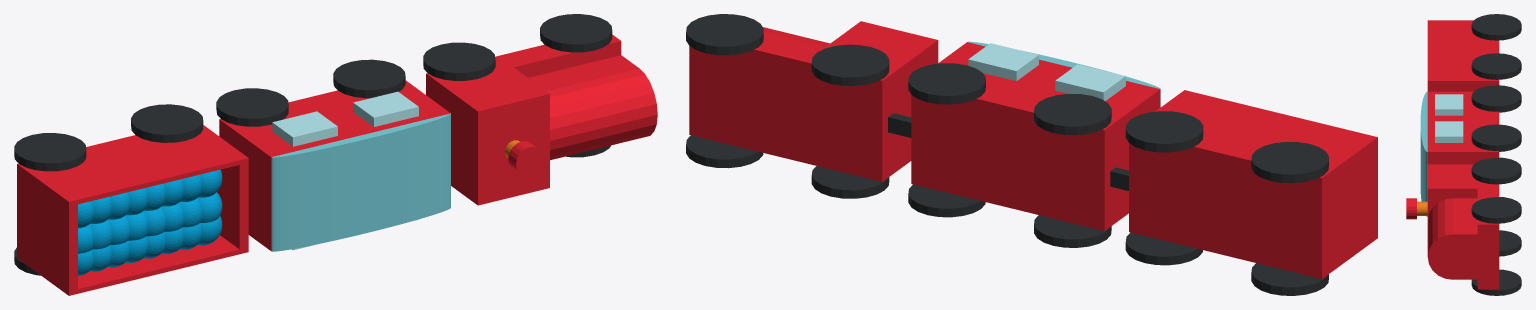
File: tinker.obj
3 views of the same model, side by side, from view 1: azimuth 30°, elevation 25°; view 2: azimuth 150°, elevation 25°; view 3: azimuth 270°, elevation 25° (orthographic). The views are drawn at different scales.
Visible parts, largest first — view 1: group_0_15277357, group_0_7720667, group_0_2829873, group_0_40919, group_0_11593967; view 2: group_0_15277357, group_0_2829873, group_0_11593967, group_0_7720667; view 3: group_0_15277357, group_0_2829873, group_0_11593967, group_0_7720667, group_0_16089887.
Part boxes in pixels (box(x1,y1,x2,y2)): group_0_15277357: box(17, 34, 657, 295); group_0_7720667: box(271, 113, 450, 251); group_0_2829873: box(14, 14, 612, 275); group_0_40919: box(78, 169, 222, 275); group_0_11593967: box(272, 91, 418, 250); group_0_15277357: box(689, 21, 1377, 278); group_0_2829873: box(686, 14, 1328, 295); group_0_11593967: box(968, 43, 1125, 100); group_0_7720667: box(968, 41, 1160, 107); group_0_15277357: box(1406, 20, 1499, 289); group_0_2829873: box(1471, 14, 1521, 295); group_0_11593967: box(1435, 94, 1463, 142); group_0_7720667: box(1420, 91, 1427, 216); group_0_16089887: box(1417, 201, 1427, 215).
Bounding box in the file's own units: 65.5 × 13 × 16.15.
